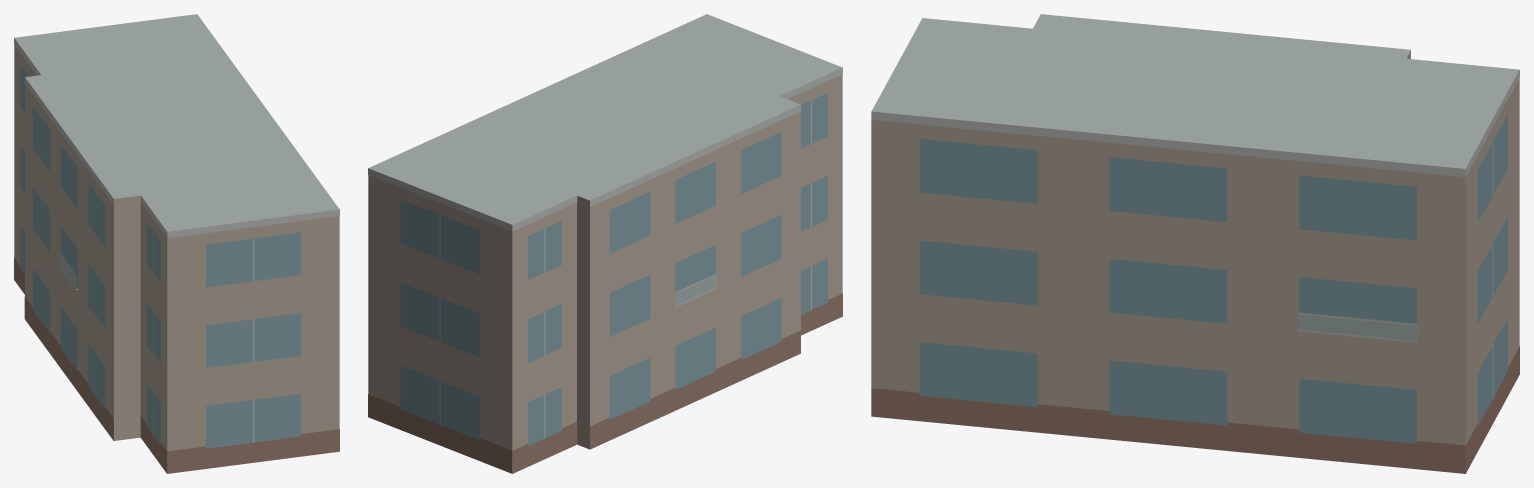
The model's file is survey-upis-32803883.glb.
3 renders of one model, left to right at view 1: azimuth 30°, elevation 25°; view 2: azimuth 150°, elevation 25°; view 3: azimuth 270°, elevation 25°, orthographic. The views are drawn at different scales.
Parts seen in each view (by area): view 1: survey-upis-32803883.tmp; view 2: survey-upis-32803883.tmp; view 3: survey-upis-32803883.tmp.
Part boxes in pixels (x1,y1,x2,y2): survey-upis-32803883.tmp: (14, 14, 339, 473); survey-upis-32803883.tmp: (368, 14, 842, 473); survey-upis-32803883.tmp: (871, 14, 1519, 473).
Bounding box in the file's own units: 9.98 × 9.15 × 17.64.
